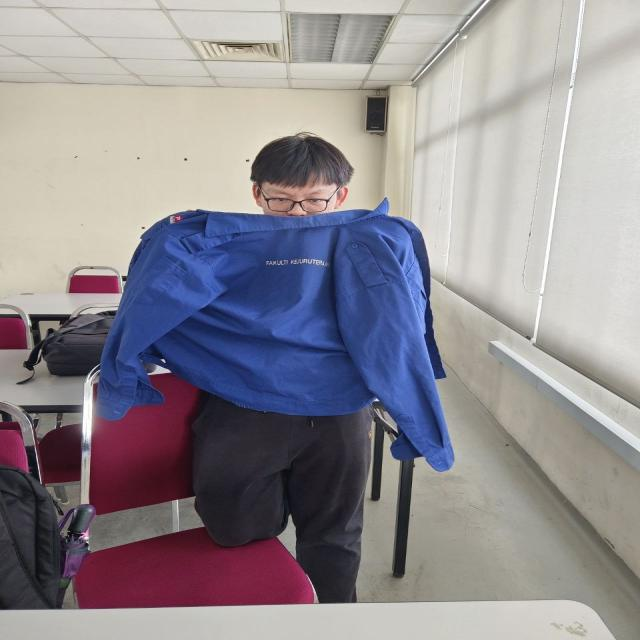person_without_labcoat: (97, 134, 454, 602)
